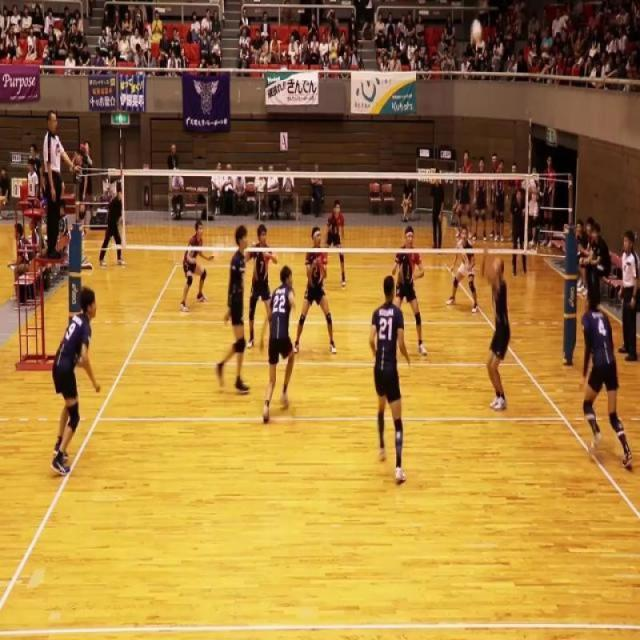volleyball: (470, 18, 483, 44)
